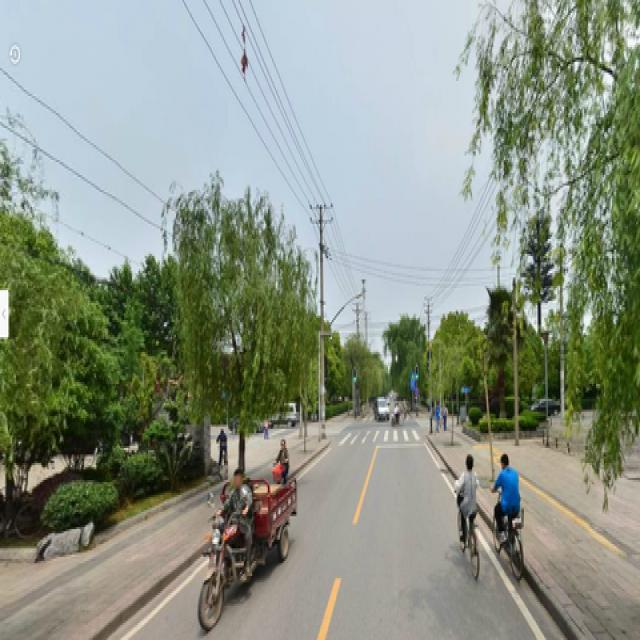plat: (162, 190, 318, 482)
